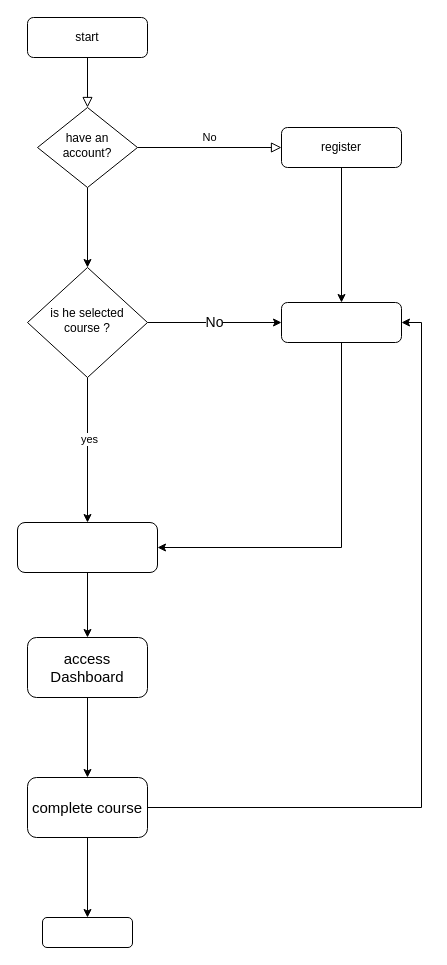
Image size: 447x965. Some labels were removed from this diagram. Here are the shapes that lost their labels. From the top down, the box of each, then its label:
(280, 302, 402, 342): select Coures
(16, 522, 158, 572): access course videos
(42, 916, 132, 948): End
